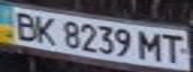2: (78, 20, 100, 54)
3: (97, 24, 118, 56)
8: (57, 19, 84, 51)
9: (112, 26, 136, 59)
B: (9, 10, 42, 42)
K: (30, 13, 60, 46)
M: (136, 29, 166, 62)
T: (157, 31, 187, 64)
